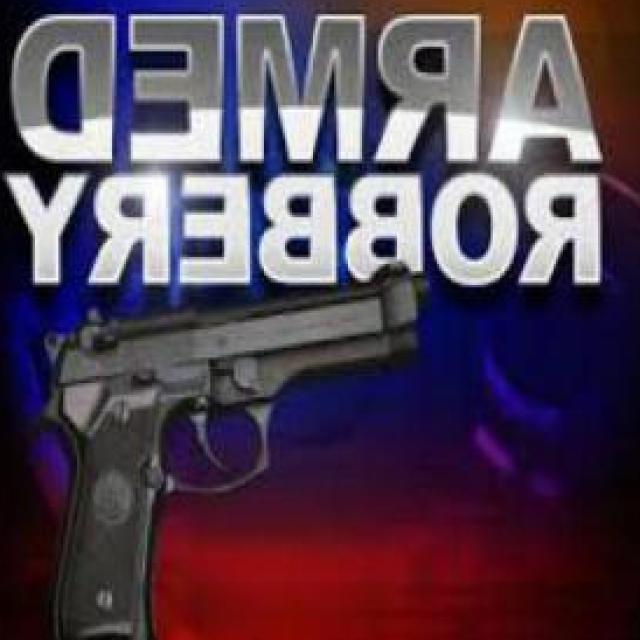pistol: (33, 247, 433, 640)
